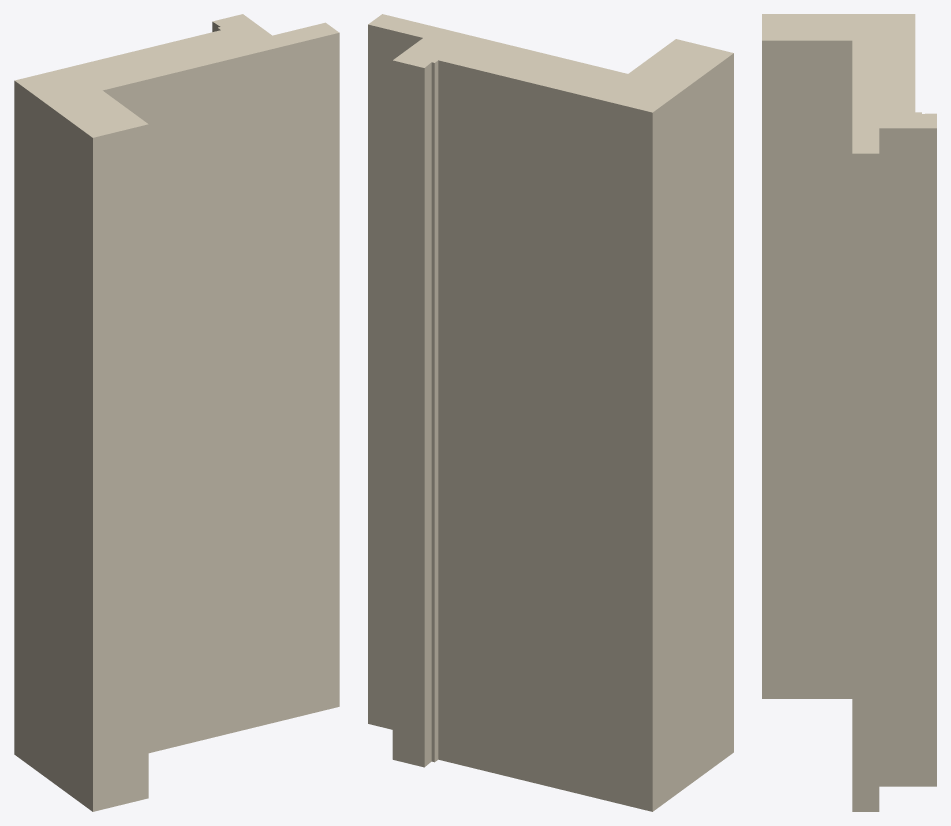
The picture shows the model from 3 angles, left to right: view 1: azimuth 30°, elevation 25°; view 2: azimuth 150°, elevation 25°; view 3: azimuth 270°, elevation 25°; orthographic projection. The views are drawn at different scales.
Visible parts, largest first — view 1: B-GF-WALL-002; view 2: B-GF-WALL-002; view 3: B-GF-WALL-002.
Part boxes in pixels (x1=…): B-GF-WALL-002: x1=14, y1=14, x2=339, y2=811; B-GF-WALL-002: x1=368, y1=14, x2=733, y2=811; B-GF-WALL-002: x1=762, y1=14, x2=936, y2=811.
Size of the model in its own units: 1.1 by 2.42 by 0.582.
